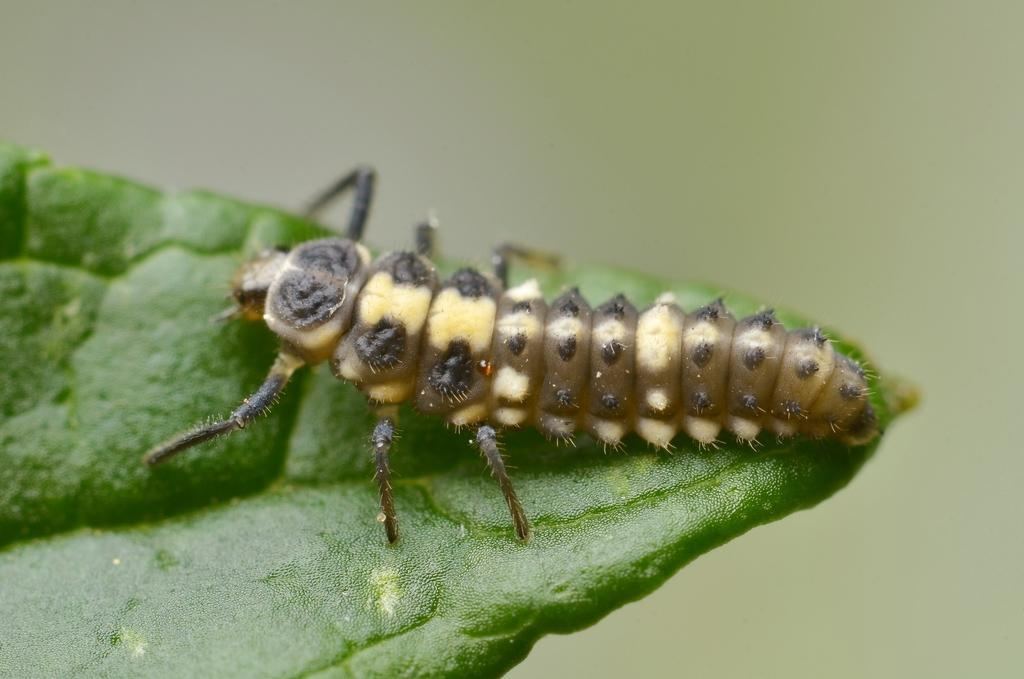ladybug: (143, 163, 887, 547)
